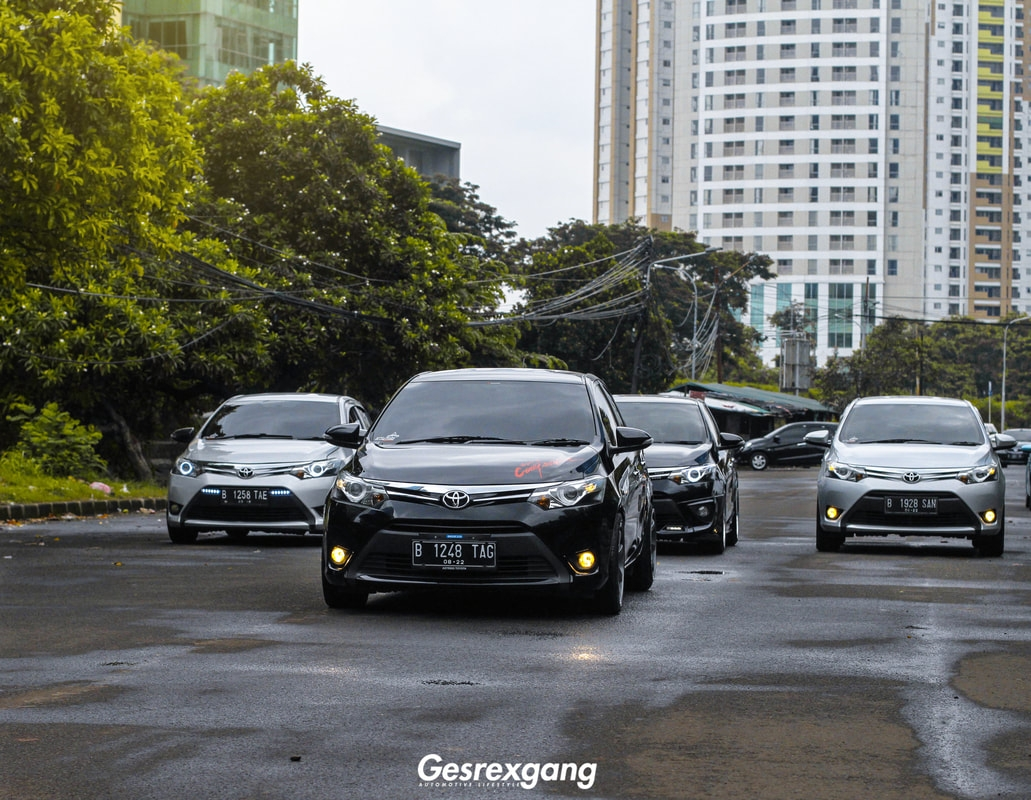plate: (413, 541, 494, 569), (884, 496, 937, 517), (219, 487, 266, 503)
